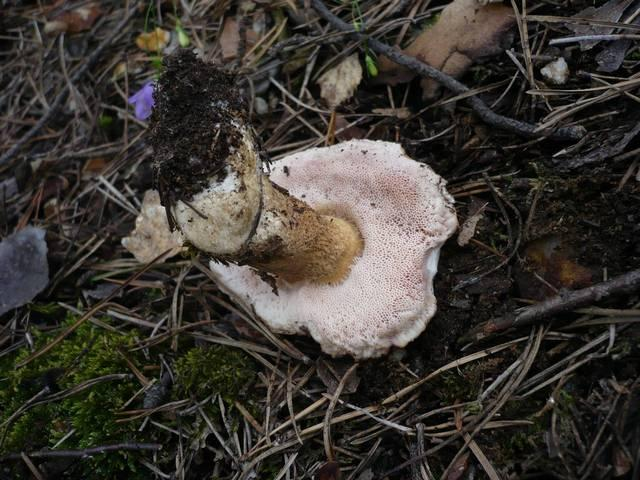Non-edible Mushroom: (146, 46, 460, 361)
